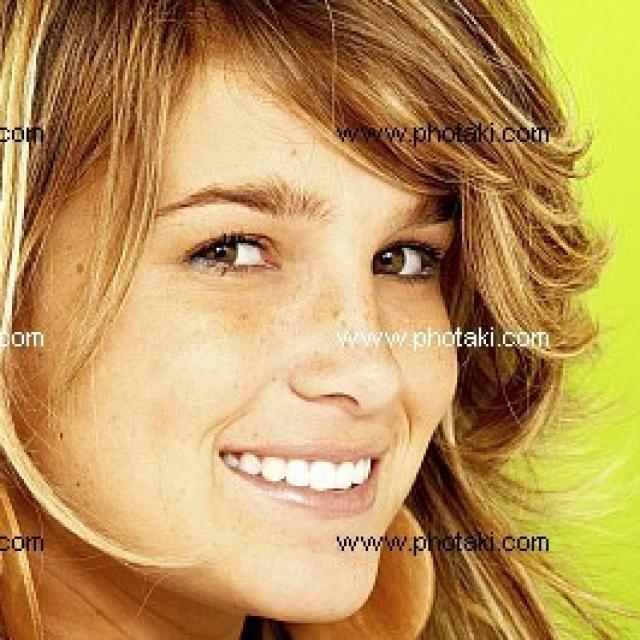Normal: (29, 48, 465, 621)
